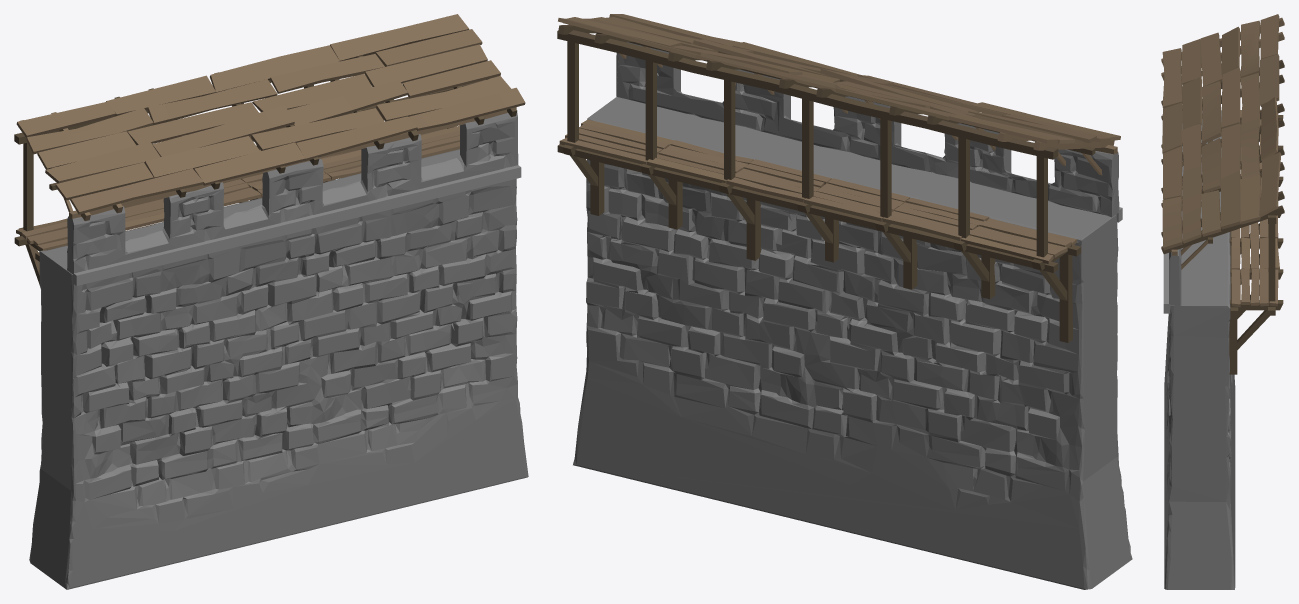
Rendered from castle_battlement_c3.FBX.
3 renders of one model, left to right at view 1: azimuth 30°, elevation 25°; view 2: azimuth 150°, elevation 25°; view 3: azimuth 270°, elevation 25°, orthographic. The views are drawn at different scales.
Parts seen in each view (by area): view 1: castle_battlement_c3; view 2: castle_battlement_c3; view 3: castle_battlement_c3.
Part boxes in pixels (x1,y1,x2,y2): castle_battlement_c3: (14, 14, 528, 589); castle_battlement_c3: (557, 14, 1132, 589); castle_battlement_c3: (1161, 14, 1284, 589).
Size of the model in its own units: 15.63 by 13.57 by 3.99.
